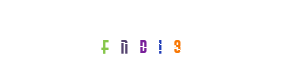1: (107, 0, 187, 80)
3: (137, 0, 217, 80)
D: (99, 0, 179, 80)
F: (78, 0, 158, 80)
N: (97, 0, 177, 80)
